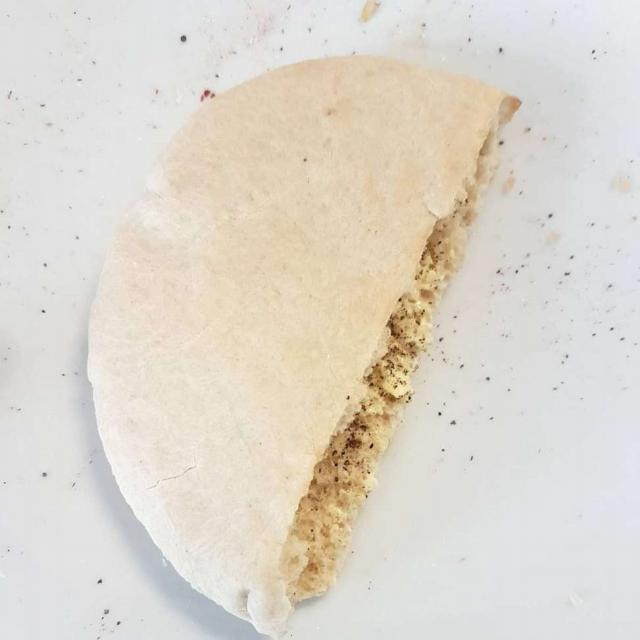bread: (118, 56, 523, 618)
